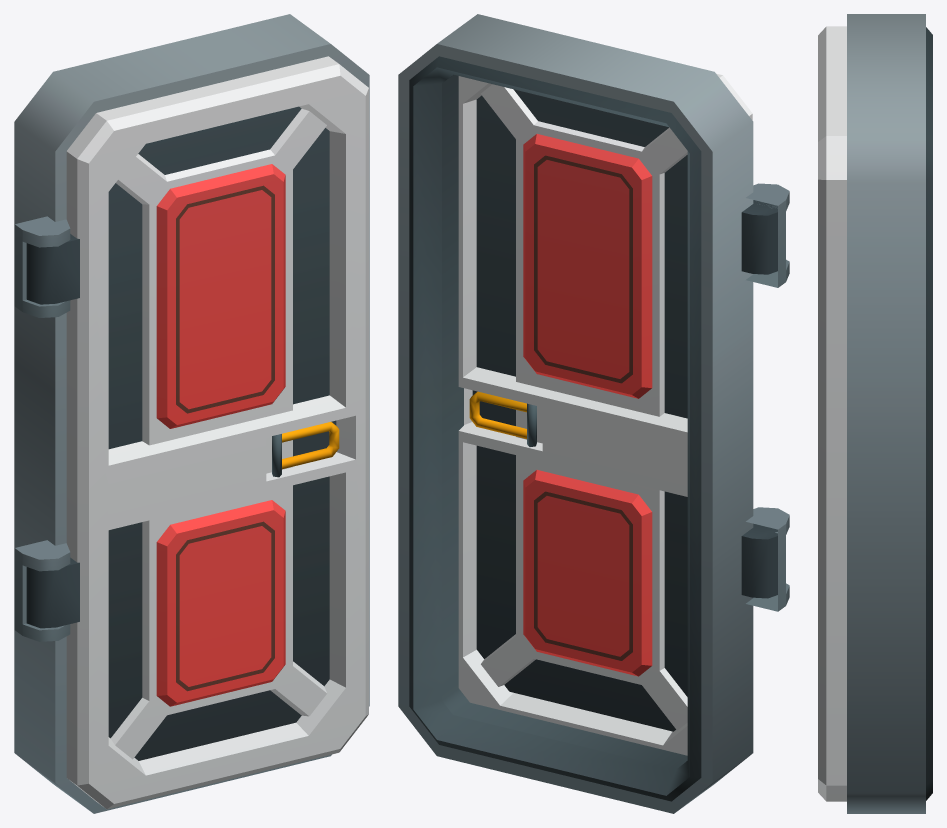
Rendered from bulkhead_portal_2x1_damaged.glb.
3 views of the same model, side by side, from view 1: azimuth 30°, elevation 25°; view 2: azimuth 150°, elevation 25°; view 3: azimuth 270°, elevation 25° (orthographic). The views are drawn at different scales.
Parts seen in each view (by area): view 1: Door_panel_001, Door_005; view 2: Door_panel_001, Door_005; view 3: Door_005, Door_panel_001.
Part boxes in pixels (x1,y1,x2,y2): Door_panel_001: [26, 56, 368, 809]; Door_005: [14, 14, 369, 813]; Door_panel_001: [458, 73, 777, 755]; Door_005: [398, 14, 789, 813]; Door_005: [847, 14, 932, 813]; Door_panel_001: [818, 26, 846, 801].
Size of the model in its own units: 1.4 by 2.76 by 0.417.
Materials: 1 (1 with a texture image).
